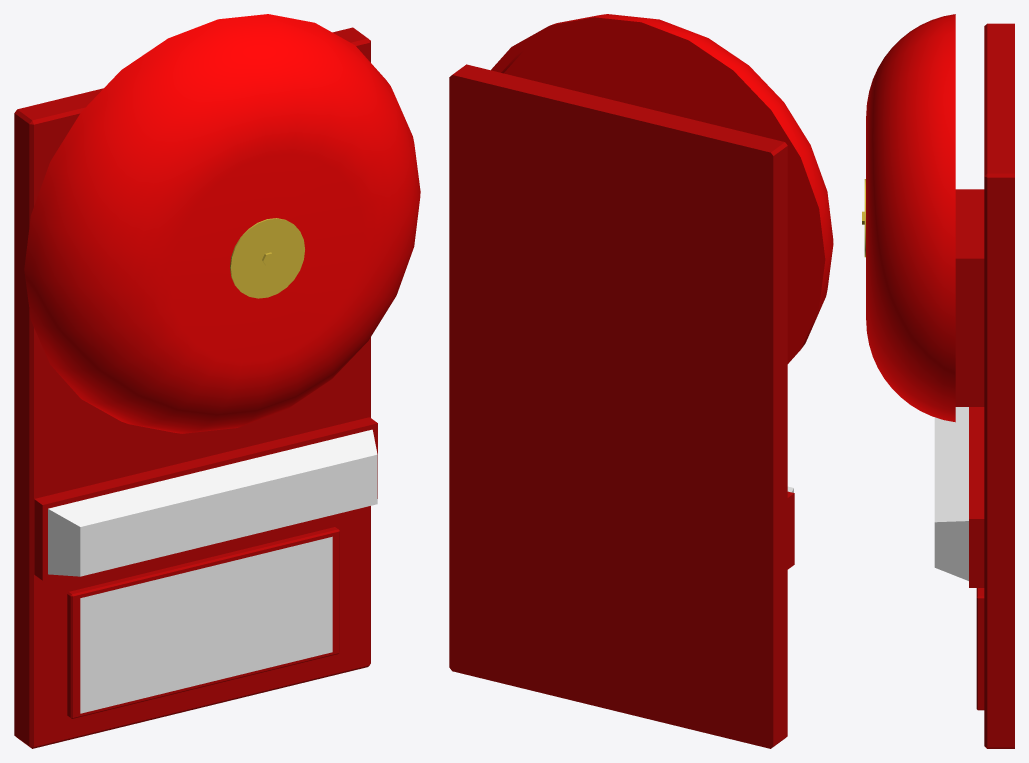
The model's file is fire alarm.fbx.
3 views of the same model, side by side, from view 1: azimuth 30°, elevation 25°; view 2: azimuth 150°, elevation 25°; view 3: azimuth 270°, elevation 25° (orthographic). The views are drawn at different scales.
Parts seen in each view (by area): view 1: FireAlarm; view 2: FireAlarm; view 3: FireAlarm.
Part boxes in pixels (box(x1,y1,x2,y2)): FireAlarm: box(14, 14, 420, 748); FireAlarm: box(449, 14, 833, 748); FireAlarm: box(862, 14, 1014, 748).
Bounding box in the file's own units: 1597 × 2759 × 596.
Materials: 5 (1 with a texture image).
